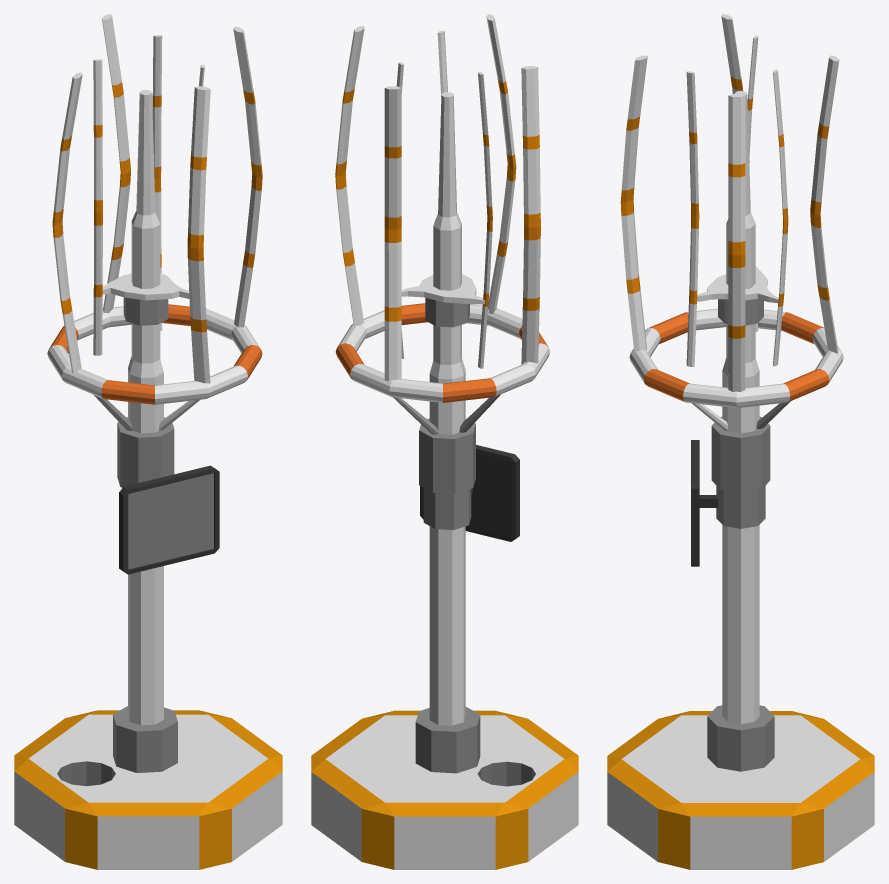
Rendered from WindTurbine.fbx.
3 views of the same model, side by side, from view 1: azimuth 30°, elevation 25°; view 2: azimuth 150°, elevation 25°; view 3: azimuth 270°, elevation 25° (orthographic).
Visible parts, largest first — view 1: Cylinder.026, Cylinder.018, Cylinder.024; view 2: Cylinder.026, Cylinder.018, Cylinder.024; view 3: Cylinder.026, Cylinder.018, Cylinder.024.
Boxes of the visible parts, x1,y1,x2,y2 form: Cylinder.026: (14,89,282,869); Cylinder.018: (47,14,262,404); Cylinder.024: (93,35,204,355); Cylinder.026: (311,92,578,869); Cylinder.018: (335,14,549,402); Cylinder.024: (396,30,492,368); Cylinder.026: (607,91,874,869); Cylinder.018: (620,14,843,408); Cylinder.024: (686,35,788,366).
Size of the model in its own units: 284 by 957 by 301.
